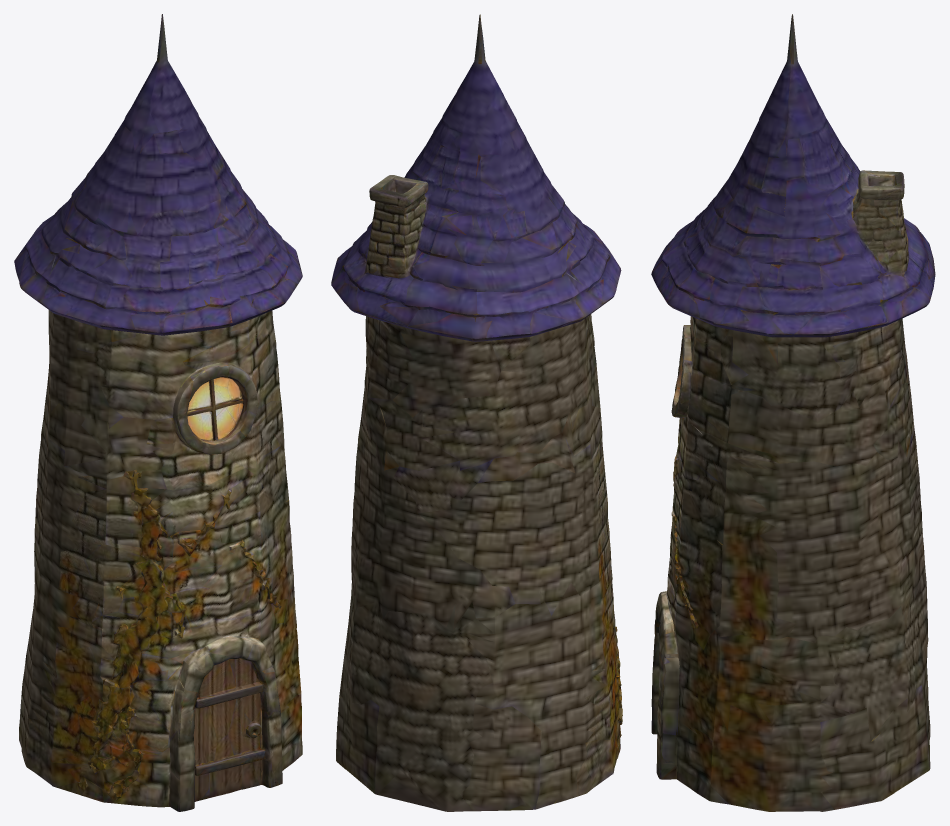
File: tower.glb
The picture shows the model from 3 angles, left to right: view 1: azimuth 30°, elevation 25°; view 2: azimuth 150°, elevation 25°; view 3: azimuth 270°, elevation 25°; orthographic projection.
Visible parts, largest first — view 1: Mesh_0; view 2: Mesh_0; view 3: Mesh_0.
Part boxes in pixels (x1=…): Mesh_0: x1=14, y1=14, x2=302, y2=811; Mesh_0: x1=331, y1=14, x2=622, y2=811; Mesh_0: x1=651, y1=14, x2=935, y2=811.
Size of the model in its own units: 0.6643 by 1.9 by 0.6616.
1 material, 1 textured.
